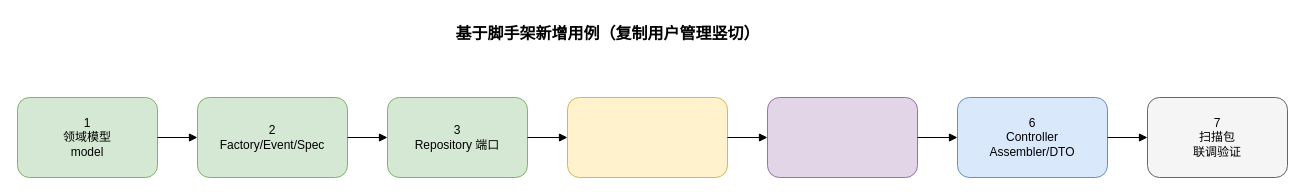
This 1305x195 diagram has some shape labels left out. Here are the shapes that lost their labels. From the top down, the box of each, then its label:
(566, 96, 728, 178): 4 Command/Query ApplicationService
(766, 96, 918, 178): 5 Infra 实现 Publisher
